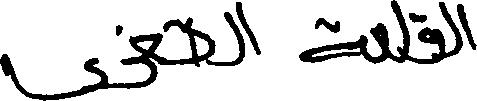X: (0, 49, 105, 100), (299, 13, 363, 67), (123, 28, 161, 93), (420, 0, 443, 68), (189, 12, 213, 71), (391, 0, 408, 67), (226, 0, 242, 70), (445, 0, 460, 62), (462, 0, 476, 54), (372, 18, 387, 68), (244, 12, 259, 61)
